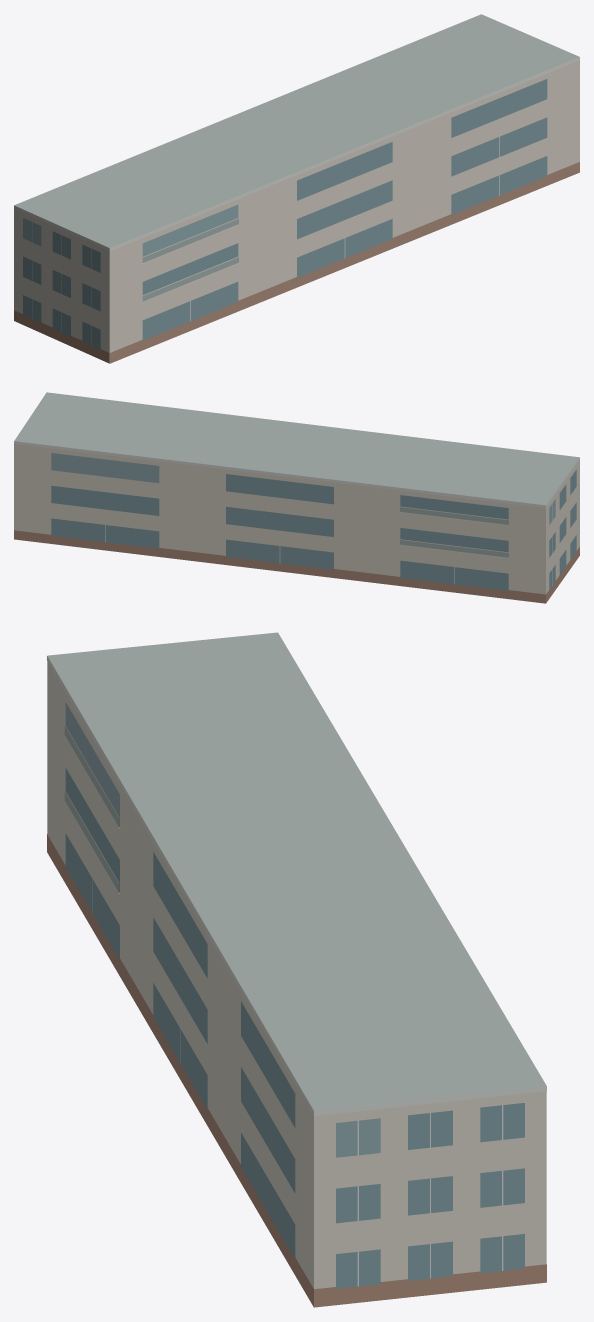
The model's file is survey-upis-32975748.glb.
3 renders of one model, top to bottom at view 1: azimuth 30°, elevation 25°; view 2: azimuth 150°, elevation 25°; view 3: azimuth 270°, elevation 25°, orthographic. The views are drawn at different scales.
Parts seen in each view (by area): view 1: survey-upis-32975748.tmp; view 2: survey-upis-32975748.tmp; view 3: survey-upis-32975748.tmp.
Part boxes in pixels (left/top/right/bottom): survey-upis-32975748.tmp: left=14, top=14, right=579, bottom=363; survey-upis-32975748.tmp: left=14, top=392, right=579, bottom=603; survey-upis-32975748.tmp: left=47, top=632, right=546, bottom=1307.
Bounding box in the file's own units: 47.77 × 9.15 × 21.09.
